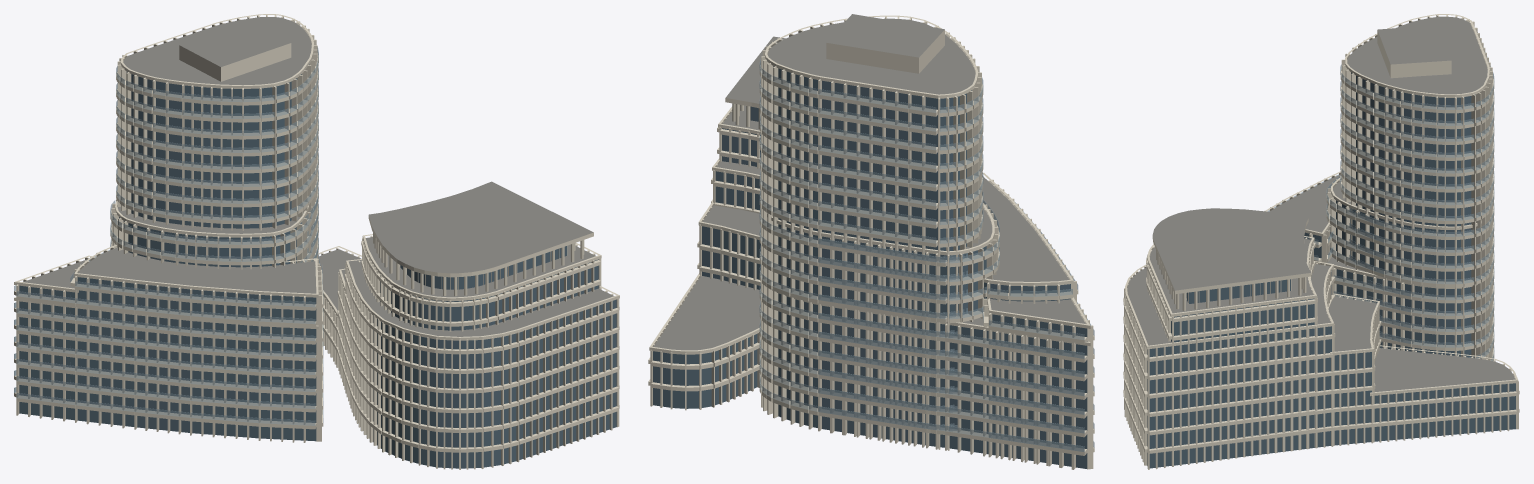
File: marble_arch_place.glb
3 views of the same model, side by side, from view 1: azimuth 30°, elevation 25°; view 2: azimuth 150°, elevation 25°; view 3: azimuth 270°, elevation 25° (orthographic). The views are drawn at different scales.
Bounding box in the file's own units: 95.05 × 68.6 × 78.16.
